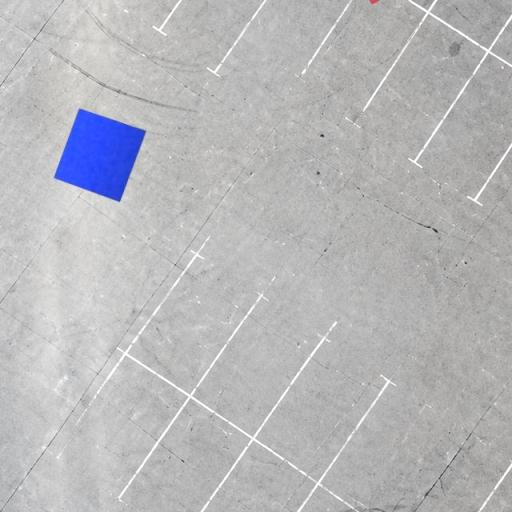BLUE_SQUARE: (54, 108, 147, 202)
